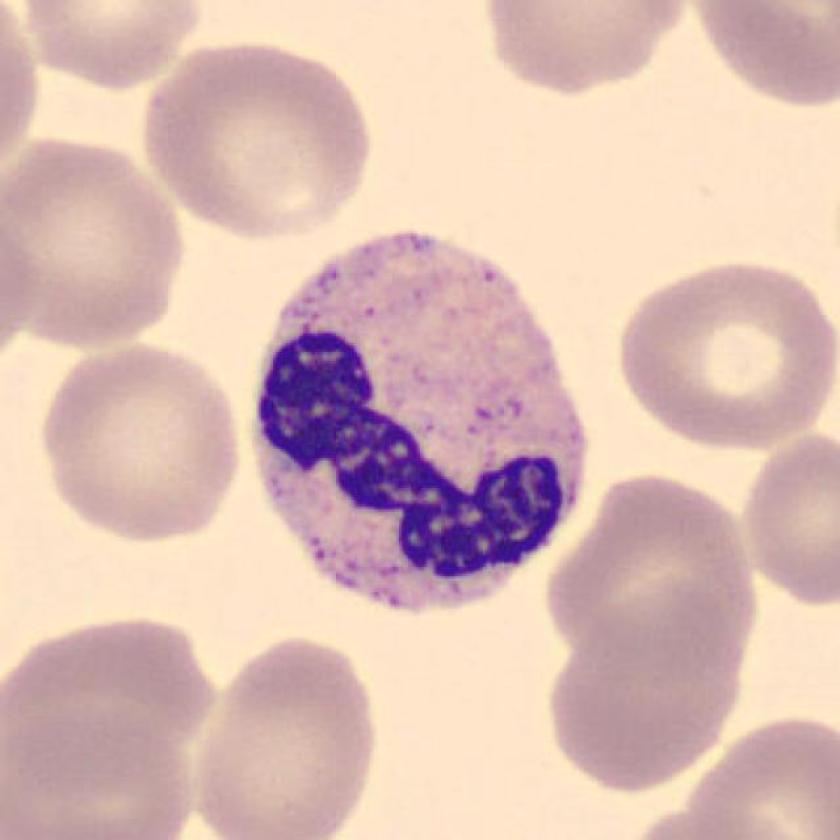neutrophil: (259, 232, 587, 611)
